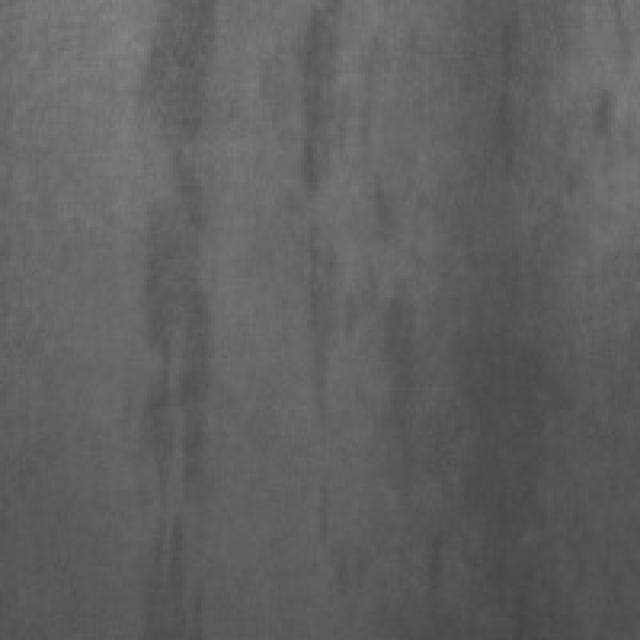inclusion: (109, 0, 224, 634), (278, 0, 378, 442), (448, 0, 541, 211), (362, 275, 432, 525), (134, 506, 212, 634)
